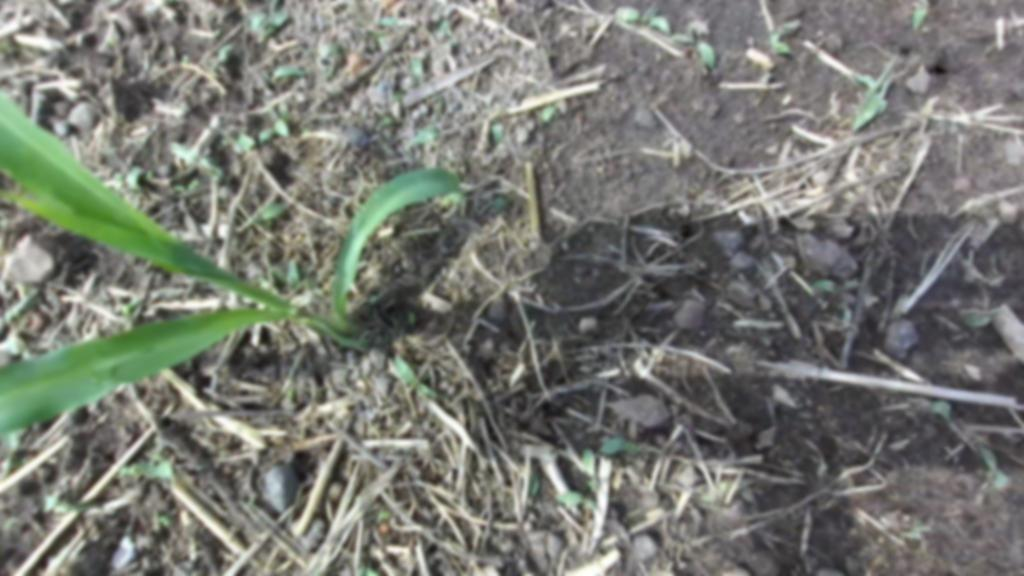BroWeed: (850, 59, 897, 141), (161, 138, 230, 184), (387, 353, 440, 407), (973, 437, 1012, 491), (0, 286, 47, 326), (143, 433, 189, 473), (903, 387, 957, 421), (255, 98, 293, 141), (552, 484, 604, 515), (399, 119, 442, 156), (239, 198, 290, 229), (42, 494, 108, 514), (599, 436, 660, 455), (699, 474, 735, 506), (266, 59, 306, 87), (763, 28, 794, 64), (579, 446, 602, 494), (962, 305, 1006, 330), (693, 36, 724, 71), (810, 274, 861, 295), (133, 182, 165, 213), (147, 283, 188, 305), (0, 431, 18, 481), (899, 521, 933, 547), (313, 36, 344, 64), (135, 459, 172, 482), (904, 534, 935, 561), (274, 92, 296, 129), (245, 4, 271, 35), (300, 273, 327, 302), (124, 165, 147, 199), (646, 11, 676, 37), (434, 20, 454, 57), (206, 115, 233, 142), (854, 69, 880, 96), (874, 77, 891, 118), (284, 76, 300, 119), (220, 133, 248, 157), (253, 122, 279, 147), (253, 20, 279, 45), (669, 24, 696, 48), (776, 15, 804, 38), (311, 54, 336, 79), (380, 560, 418, 576), (232, 130, 257, 154), (117, 295, 139, 320), (440, 187, 466, 208), (407, 58, 425, 88), (268, 263, 291, 284), (686, 19, 710, 39), (537, 101, 557, 124), (286, 258, 300, 289), (113, 463, 140, 479), (388, 84, 409, 104), (216, 42, 233, 66), (292, 78, 307, 105), (9, 451, 34, 467), (527, 472, 542, 497), (813, 461, 831, 481), (553, 96, 571, 116), (0, 280, 16, 302), (489, 121, 505, 143), (112, 293, 126, 315), (531, 109, 545, 131), (491, 195, 509, 212), (376, 34, 392, 53), (156, 512, 173, 529), (367, 291, 384, 305), (253, 218, 273, 229), (378, 114, 396, 126), (357, 566, 378, 576), (186, 177, 200, 192), (272, 30, 287, 44), (380, 16, 399, 27), (110, 170, 125, 183), (284, 383, 296, 399), (141, 169, 155, 182), (131, 193, 142, 209), (315, 38, 334, 47), (207, 56, 220, 69), (123, 191, 135, 204), (405, 312, 417, 325), (984, 468, 997, 479), (172, 183, 186, 193), (216, 448, 231, 457), (378, 510, 389, 520), (0, 309, 4, 336), (584, 478, 593, 488), (687, 47, 694, 59), (217, 65, 226, 74), (182, 55, 188, 64)
Maize: (0, 89, 462, 431)
